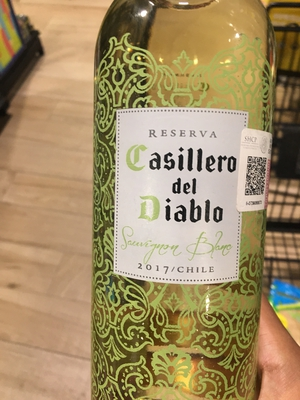casillero del diablo sauvignon blanc: (84, 3, 276, 400)
